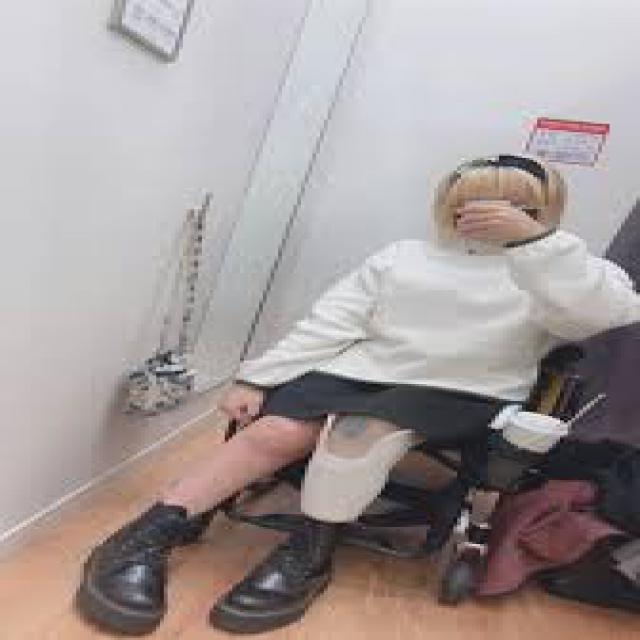wheelchairs: (228, 269, 564, 606)
